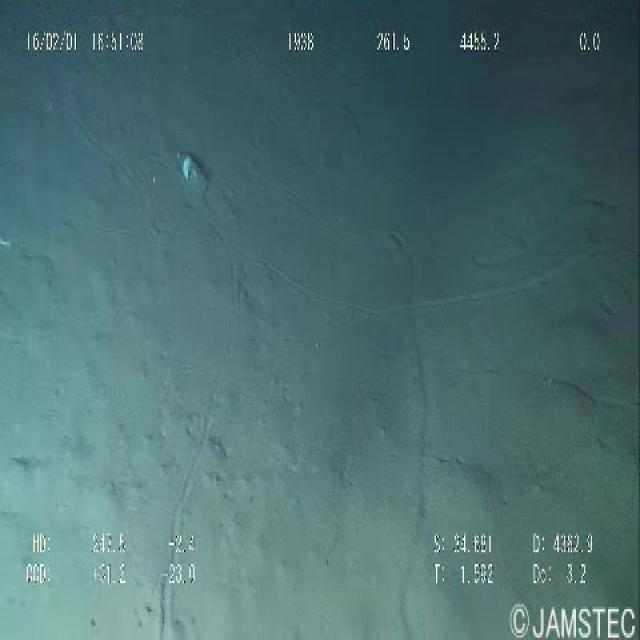plastic: (167, 130, 220, 207)
